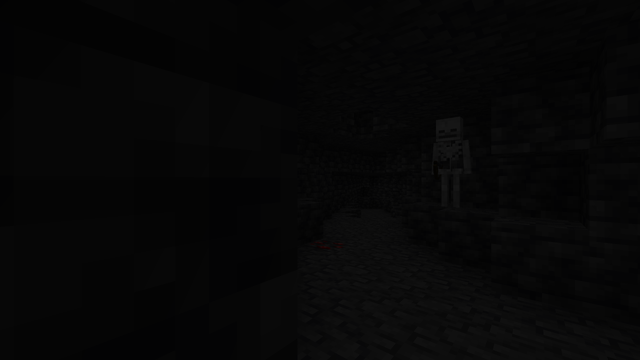squelettes: (433, 116, 466, 208)
